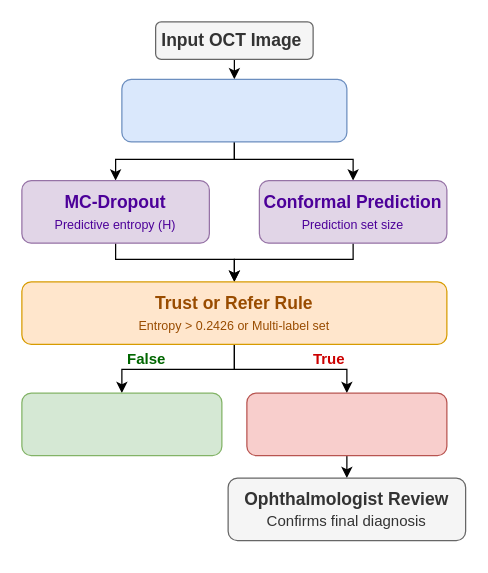
This 488x573 diagram has some shape labels left out. The centre of each missing label's shape, as x and y in pixels:
"DAVis-Net Predictions + Softmax outputs" belongs at pixel 234 110.
"Refer to Specialist Accuracy 90.83%" belongs at pixel 346 424.
"Trust Accuracy 99.76%" belongs at pixel 121 424.
